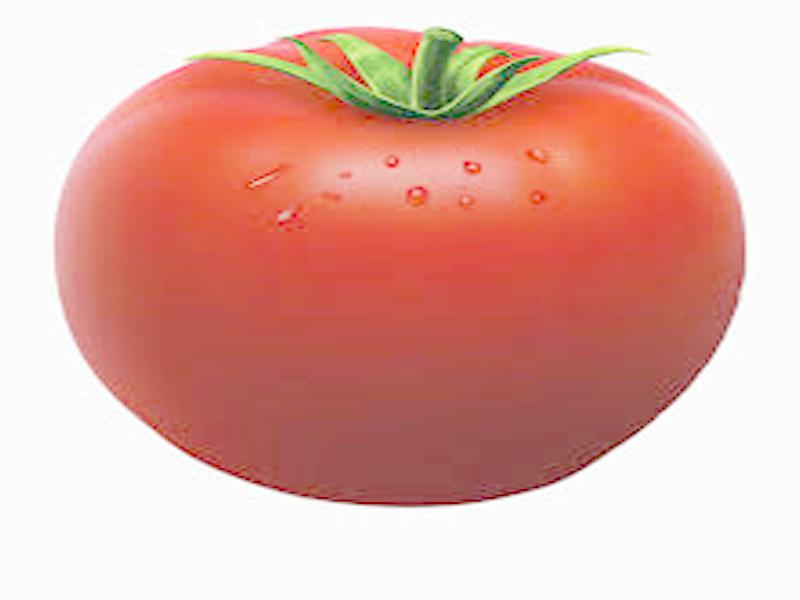Tomato: (137, 26, 745, 508)
